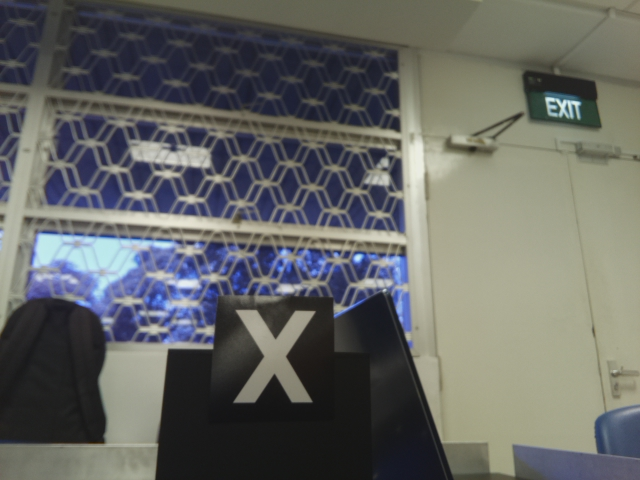x: (226, 304, 320, 411)
